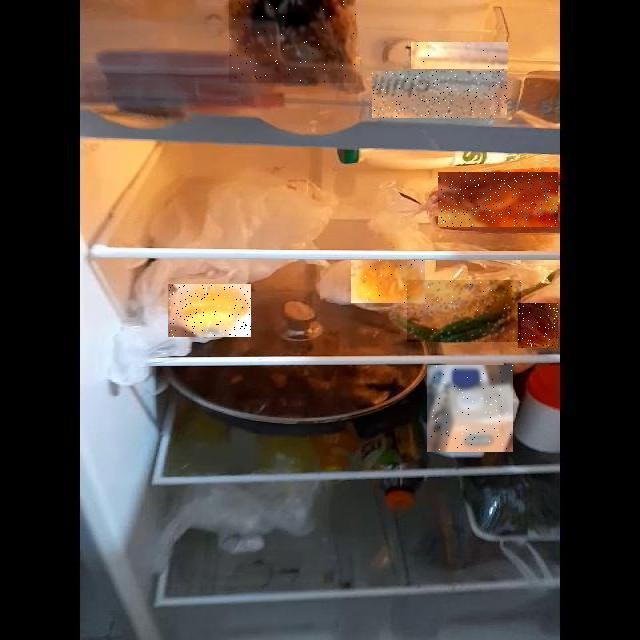Bread: (229, 0, 356, 83)
Carrot: (439, 172, 559, 227)
Cheese: (372, 71, 507, 118)
Chillies: (407, 280, 521, 342)
Lemon: (168, 284, 251, 337), (351, 260, 425, 303)
Milk: (427, 365, 513, 452)
Tomato Paste: (519, 303, 559, 348)
Yoghurt: (411, 42, 508, 69)
